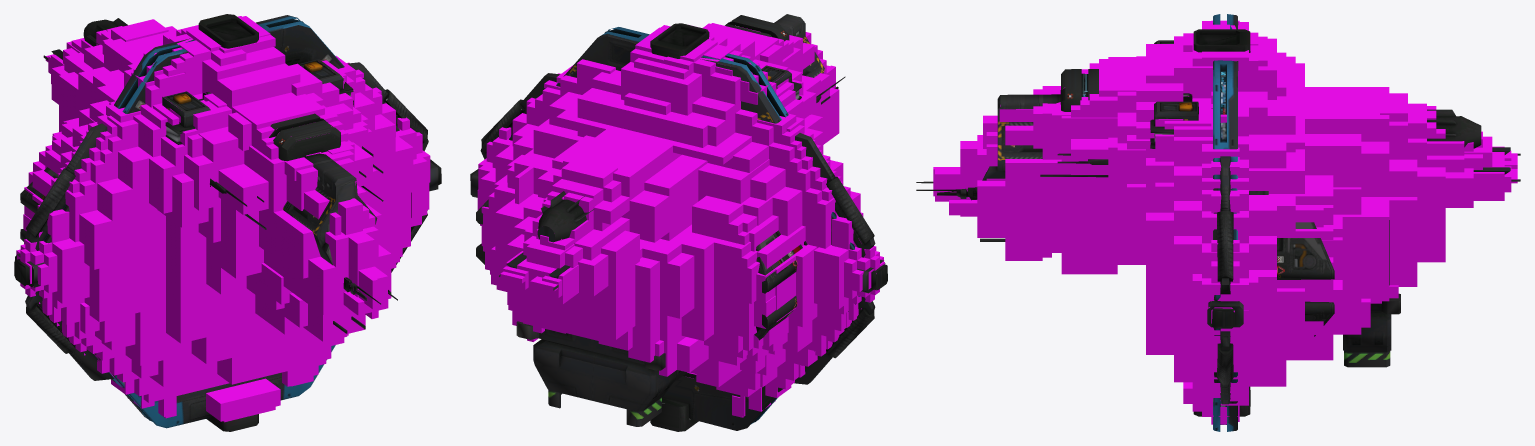
3 views of the same model, side by side, from view 1: azimuth 30°, elevation 25°; view 2: azimuth 150°, elevation 25°; view 3: azimuth 270°, elevation 25° (orthographic). The views are drawn at different scales.
Parts seen in each view (by area): view 1: p1_op, COL_Auto188, COL_Auto71, COL_Auto212, COL_Auto217, COL_Auto184, COL_Auto213, COL_Auto218, COL_Auto196, COL_Auto209, COL_Auto223, COL_Auto205 (+70 smaller); view 2: p1_op, COL_Auto211, COL_Auto202, COL_Auto247, COL_Auto200, COL_Auto220, COL_Auto130, COL_Auto137, COL_Auto206, COL_Auto201, COL_Auto203, COL_Auto113 (+69 smaller); view 3: p1_op, COL_Auto202, COL_Auto332, COL_Auto213, COL_Auto218, COL_Auto211, COL_Auto200, COL_Auto268, COL_Auto334, COL_Auto196, COL_Auto234, COL_Auto220 (+61 smaller).
Boxes of the visible parts, box(x1,y1,x2,y2) form: p1_op: box(14, 14, 441, 431); COL_Auto188: box(166, 216, 267, 343); COL_Auto71: box(84, 235, 165, 322); COL_Auto212: box(79, 136, 413, 269); COL_Auto217: box(97, 114, 395, 238); COL_Auto184: box(217, 329, 300, 384); COL_Auto213: box(264, 245, 391, 314); COL_Auto218: box(259, 204, 381, 278); COL_Auto196: box(211, 199, 263, 278); COL_Auto209: box(125, 288, 191, 365); COL_Auto223: box(198, 103, 353, 242); COL_Auto205: box(207, 63, 300, 109); p1_op: box(470, 14, 887, 431); COL_Auto211: box(514, 216, 639, 339); COL_Auto202: box(563, 125, 681, 199); COL_Auto247: box(577, 88, 716, 147); COL_Auto200: box(552, 135, 707, 240); COL_Auto220: box(533, 119, 769, 203); COL_Auto130: box(679, 224, 716, 340); COL_Auto137: box(628, 257, 659, 362); COL_Auto206: box(621, 62, 701, 115); COL_Auto201: box(538, 168, 678, 242); COL_Auto203: box(556, 102, 751, 164); COL_Auto113: box(660, 253, 694, 318); p1_op: box(916, 14, 1520, 431); COL_Auto202: box(1295, 87, 1389, 141); COL_Auto332: box(1333, 201, 1389, 284); COL_Auto213: box(977, 180, 1089, 228); COL_Auto218: box(1005, 159, 1089, 205); COL_Auto211: box(1417, 167, 1445, 262); COL_Auto200: box(1305, 134, 1361, 187); COL_Auto268: box(1370, 197, 1417, 286); COL_Auto334: box(1146, 212, 1173, 288); COL_Auto196: box(1089, 177, 1135, 239); COL_Auto234: box(1061, 87, 1117, 181); COL_Auto220: box(1249, 149, 1304, 193).
Bounding box in the file's own units: 24.33 × 21.82 × 32.24.
Materials: 2 (1 with a texture image).
